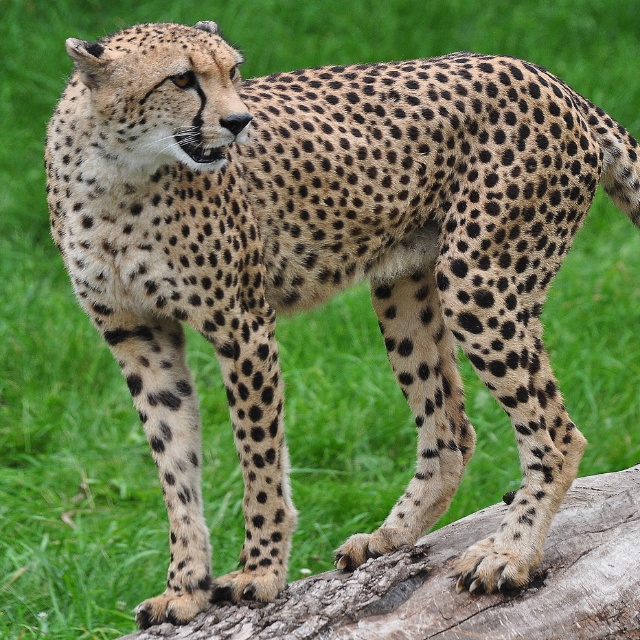Cheetah: (42, 20, 639, 631)
